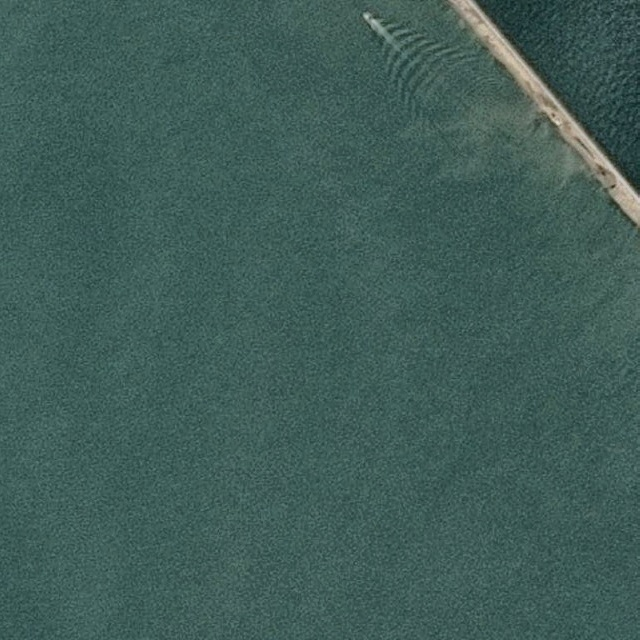wake: (351, 1, 469, 119)
